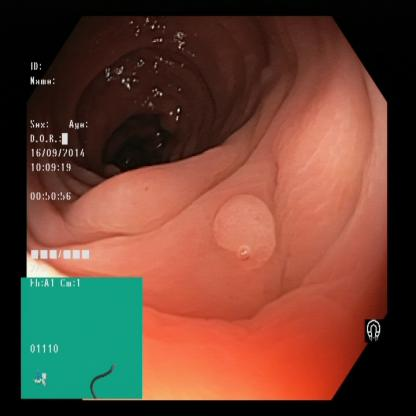Labels: (30, 52, 109, 270), (21, 281, 145, 400), (362, 309, 393, 361)
Polyps: (208, 186, 291, 278)
